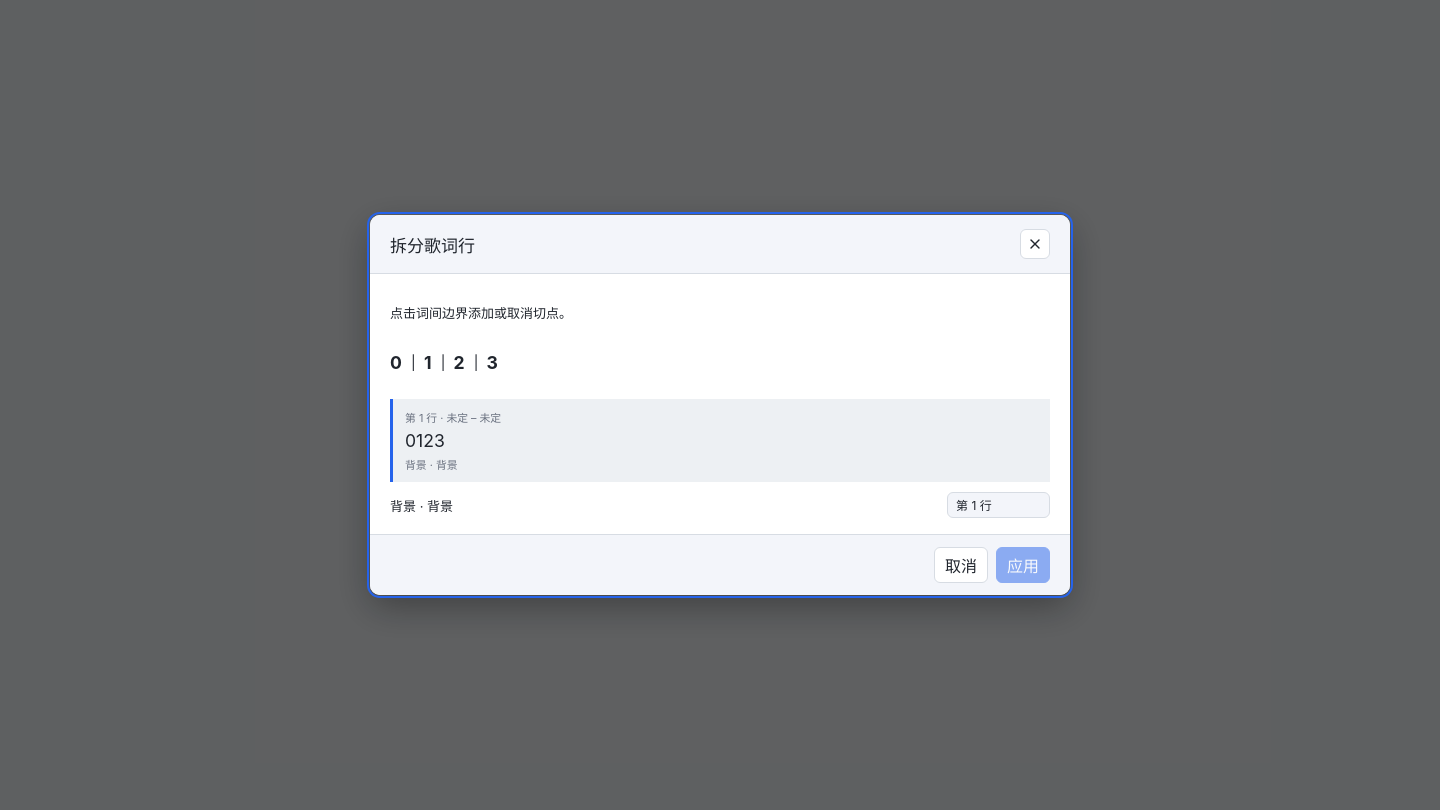
Test case: previews multiple cuts and requires reassignment when a background segment disappears
expect the button "应用" is disabled: met, box [996,547,1050,583]
Click the button named "在第 4 词前切分" at (476, 362), box [468,347,485,377]
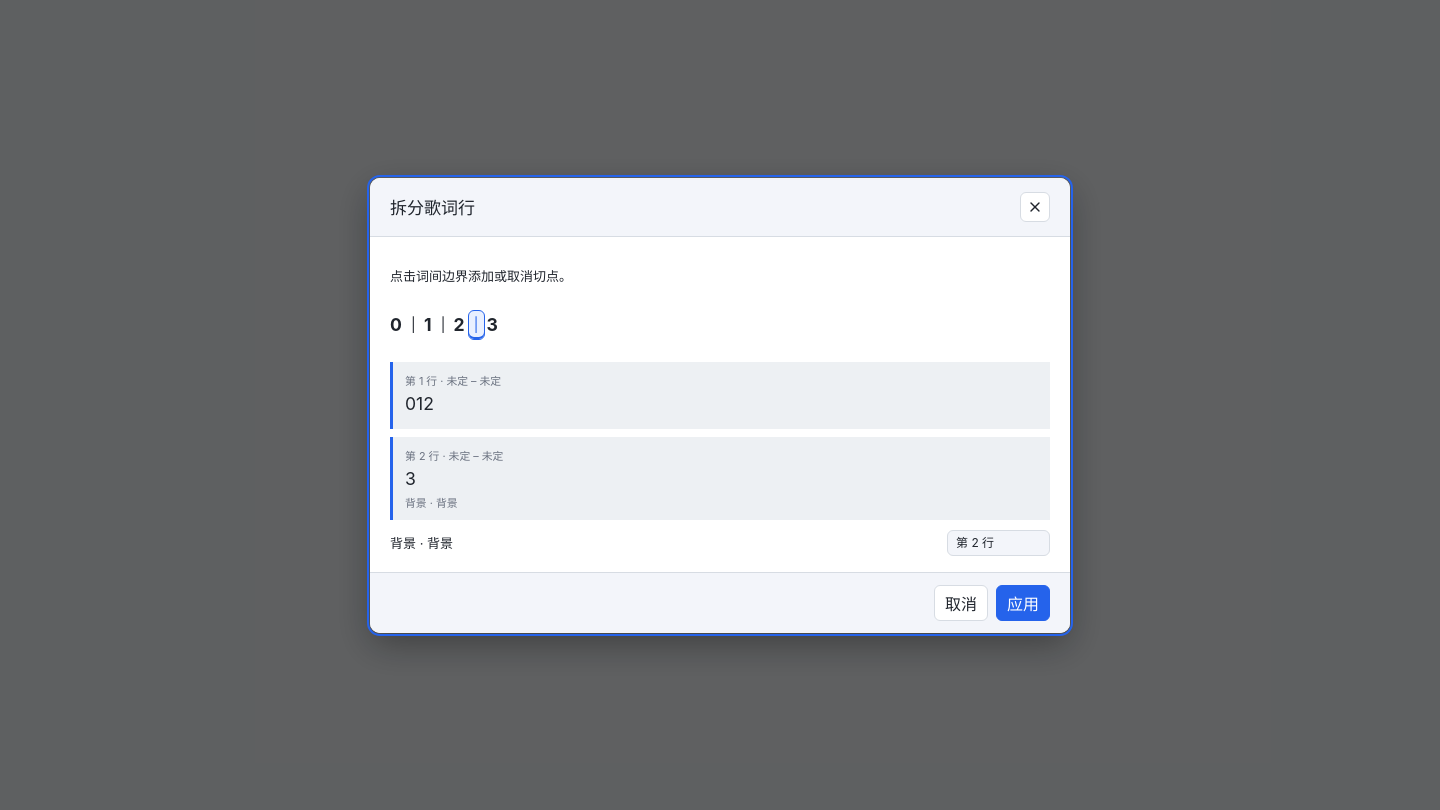
Click the button named "在第 2 词前切分" at (413, 324), box [405,310,422,340]
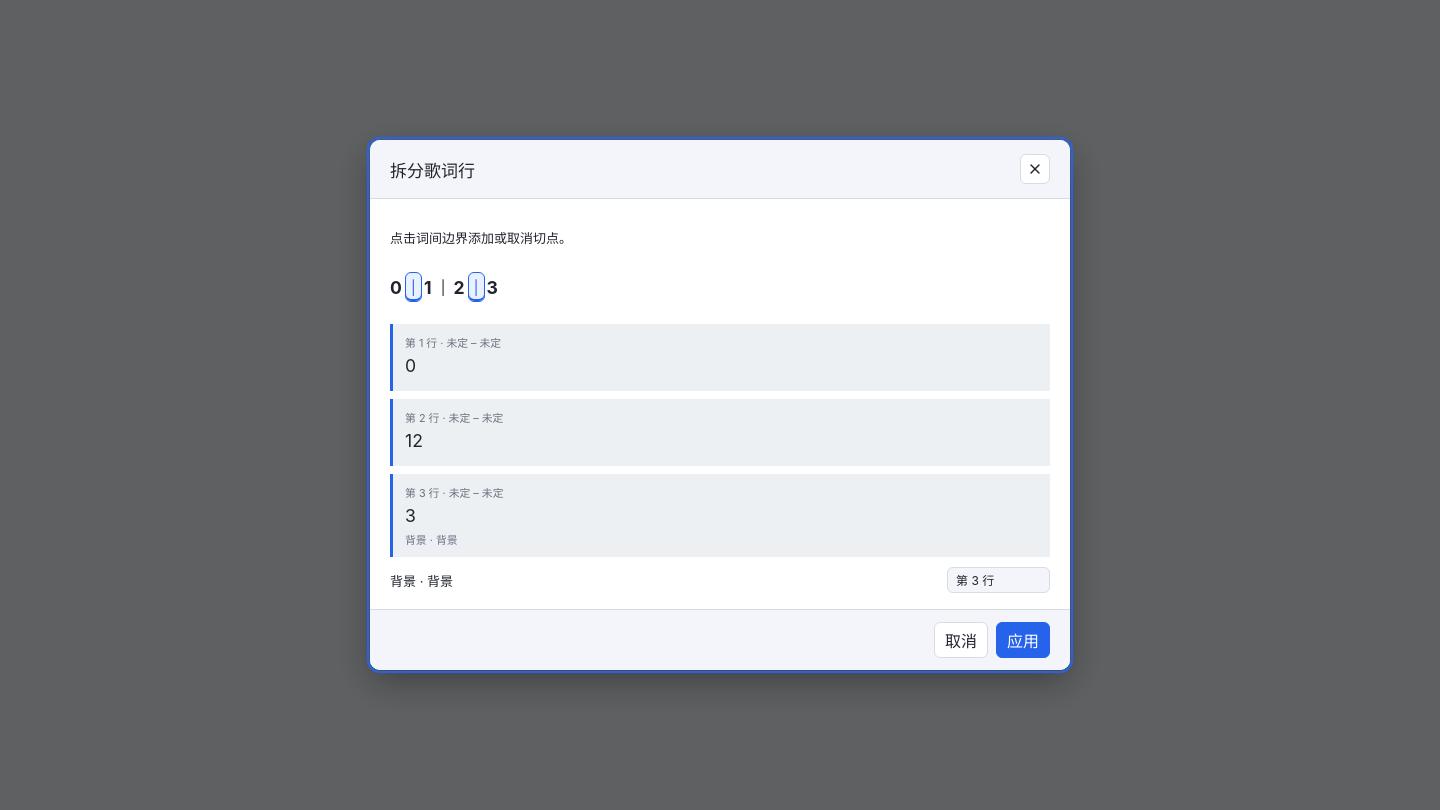
Click the button named "在第 4 词前切分" at (476, 287), box [468,272,485,302]
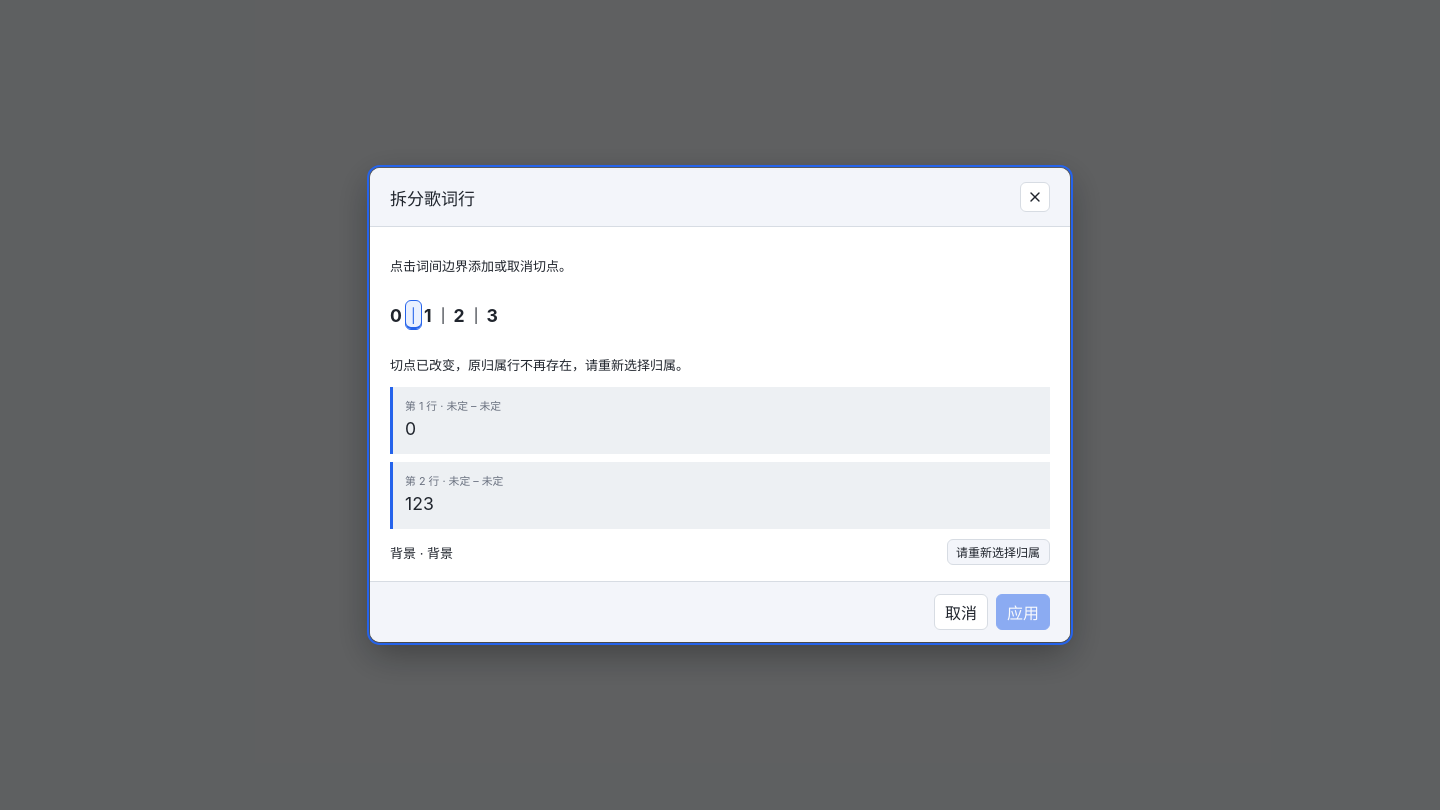
expect the message shows "重新选择": met, box [390,357,689,373]
expect the button "应用" is disabled: met, box [996,594,1050,630]
